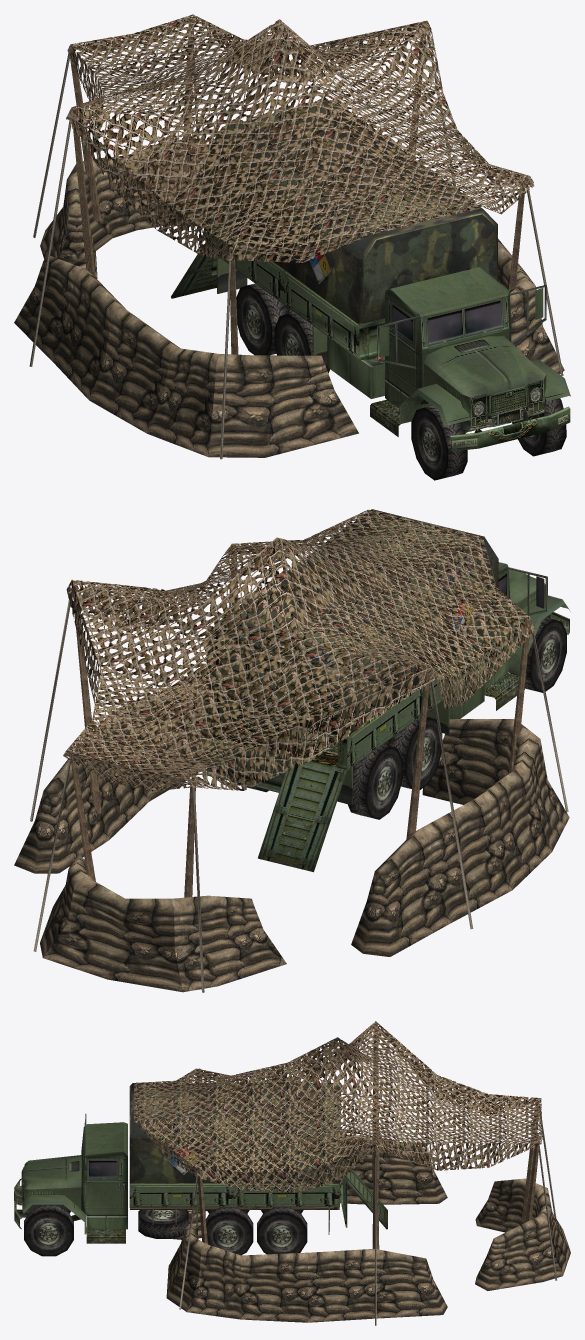
Rendered from Armry02.glb.
The picture shows the model from 3 angles, top to bottom: view 1: azimuth 30°, elevation 25°; view 2: azimuth 150°, elevation 25°; view 3: azimuth 270°, elevation 25°; orthographic projection. The views are drawn at different scales.
Parts seen in each view (by area): view 1: _Armry02; view 2: _Armry02; view 3: _Armry02.
Boxes of the visible parts, box(x1,y1,x2,y2) form: _Armry02: box(14, 14, 570, 480); _Armry02: box(14, 509, 570, 992); _Armry02: box(14, 1021, 570, 1325).
Bounding box in the file's own units: 11.15 × 7.61 × 17.78.
Materials: 16 (13 with a texture image).
